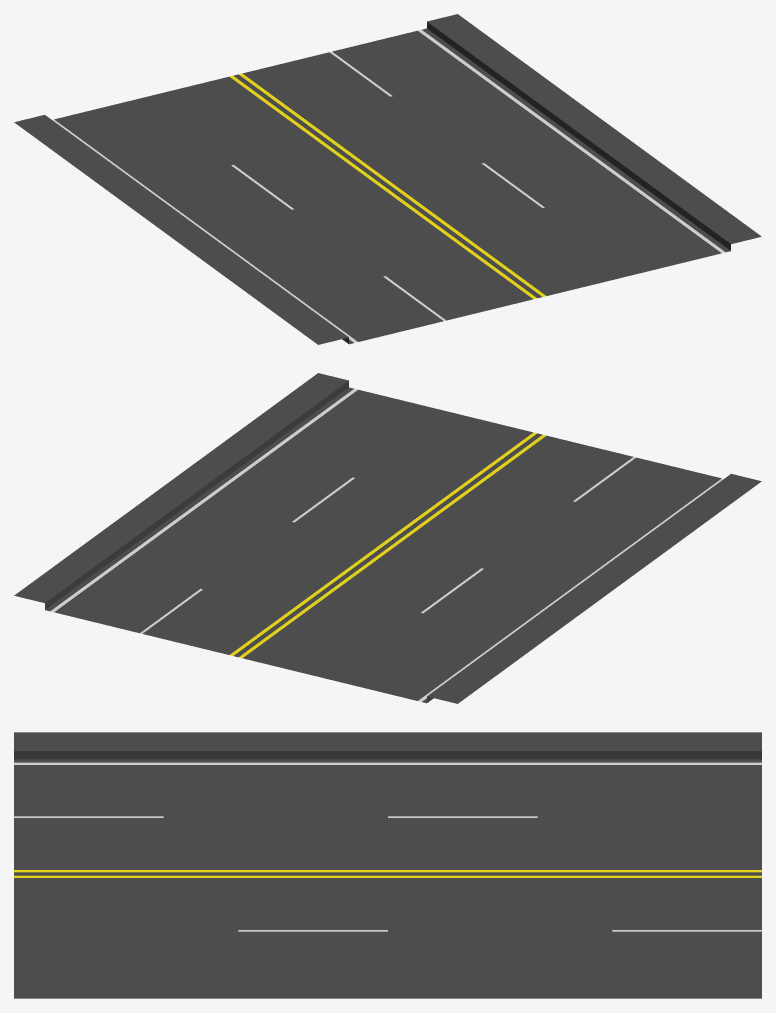
The model's file is 2linesroad.fbx.
3 renders of one model, top to bottom at view 1: azimuth 30°, elevation 25°; view 2: azimuth 150°, elevation 25°; view 3: azimuth 270°, elevation 25°, orthographic. The views are drawn at different scales.
Visible parts, largest first — view 1: Plane.001; view 2: Plane.001; view 3: Plane.001.
Part boxes in pixels (<box>): Plane.001: <box>14,14,761,344</box>; Plane.001: <box>14,373,761,703</box>; Plane.001: <box>14,732,761,998</box>.
Bounding box in the file's own units: 1684 × 25 × 2000.
